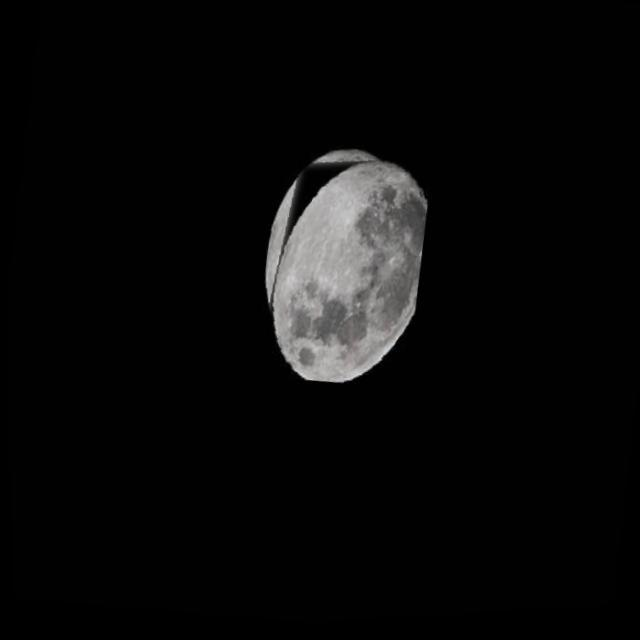moon: (246, 140, 437, 400)
